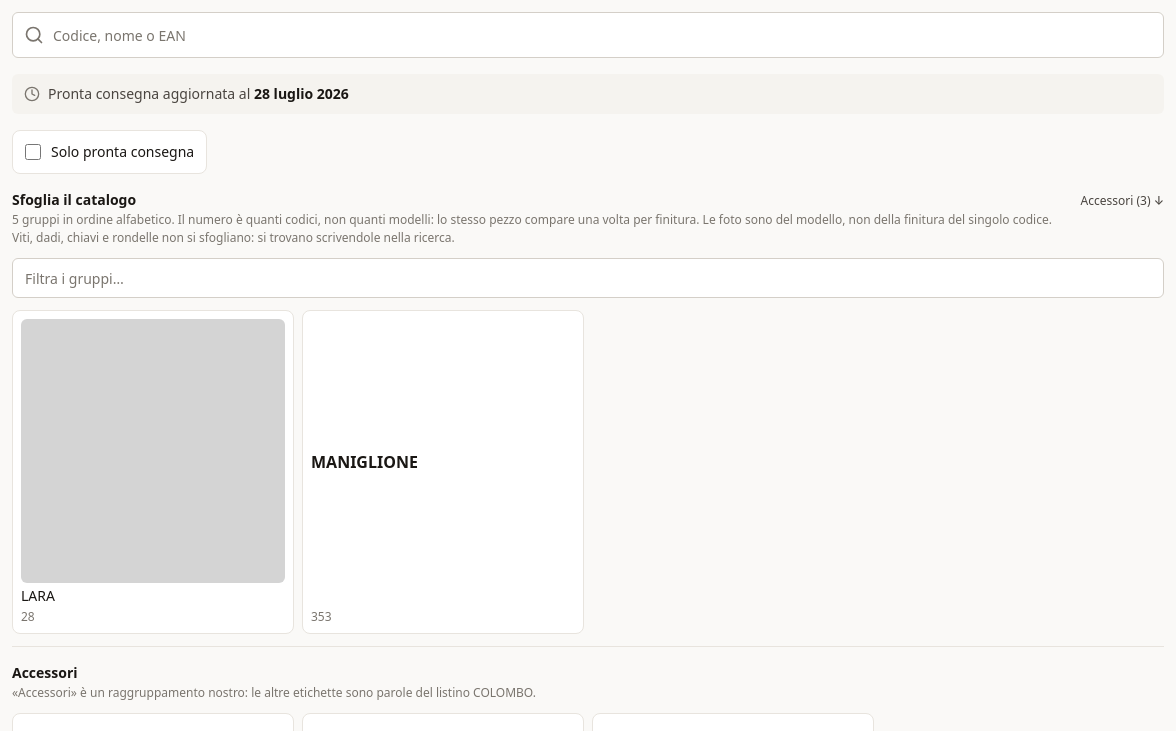
Scenario: ManiglieClient — sfoglio › il campo filtra le etichette senza interrogare il server
Step 1. Type "ros" into the field with placeholder "Filtra i gruppi…" → [588, 278], box [12, 258, 1164, 298]
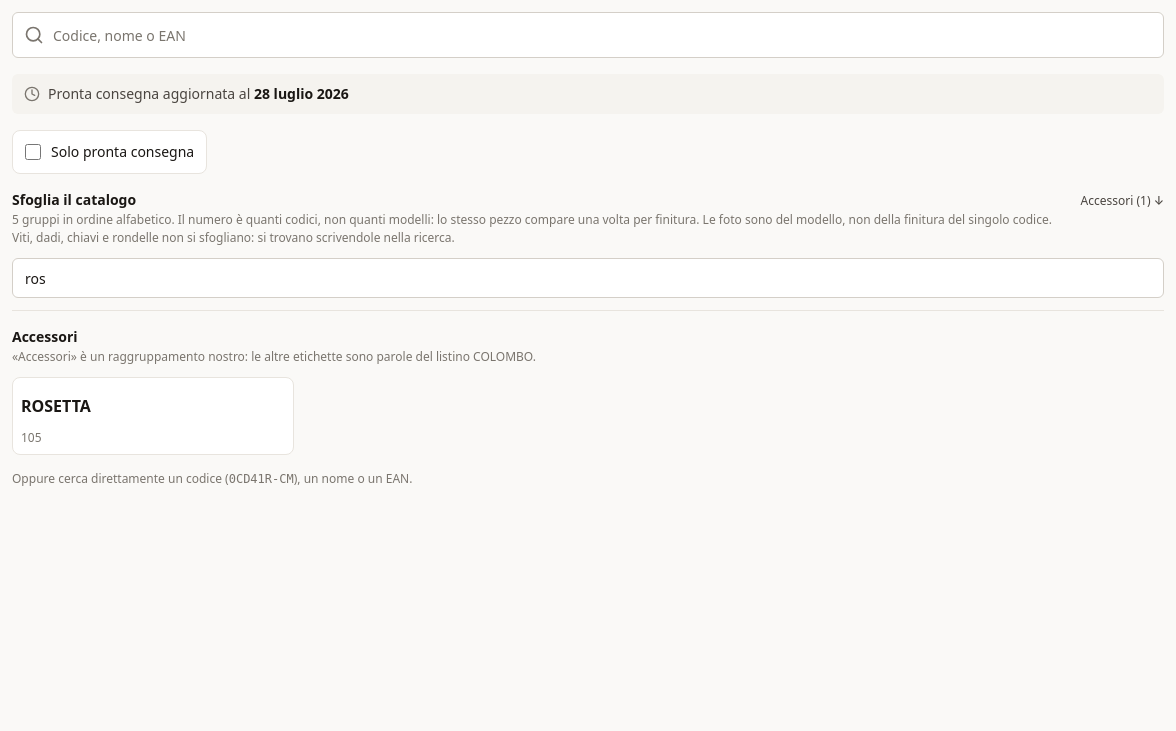
Expected: the text "ROSETTA" is shown, [21, 395, 91, 417]
Result: the link "MANIGLIONE" is gone
